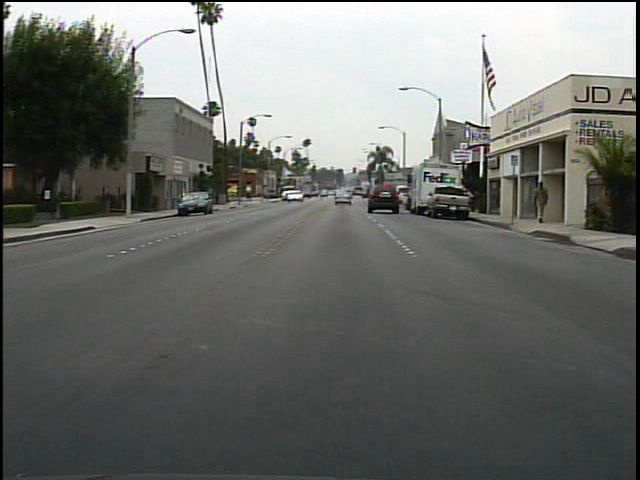person: (529, 179, 552, 229)
